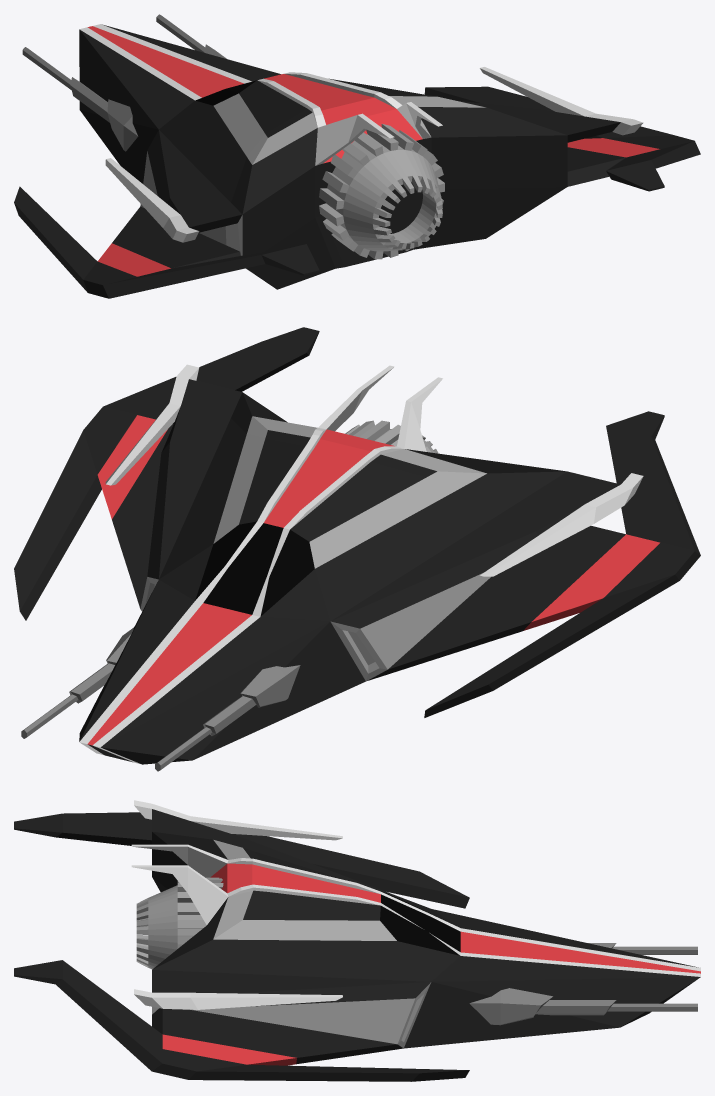
The model's file is spaceship.glb.
3 views of the same model, one above another, from view 1: azimuth 30°, elevation 25°; view 2: azimuth 150°, elevation 25°; view 3: azimuth 270°, elevation 25° (orthographic). The views are drawn at different scales.
Visible parts, largest first — view 1: ship, Cylinder.002, Cylinder.003; view 2: ship, Cylinder.003, Cylinder.002; view 3: ship, Cylinder.003, Cylinder.002.
Boxes of the visible parts, x1,y1,x2,y2 form: ship: [14, 24, 700, 298]; Cylinder.002: [319, 124, 444, 259]; Cylinder.003: [22, 14, 226, 151]; ship: [14, 327, 700, 764]; Cylinder.003: [22, 627, 300, 769]; Cylinder.002: [345, 420, 438, 453]; ship: [14, 800, 700, 1081]; Cylinder.003: [469, 943, 697, 1025]; Cylinder.002: [136, 877, 223, 969].
Size of the model in its own units: 0.918 by 0.257 by 1.06.
